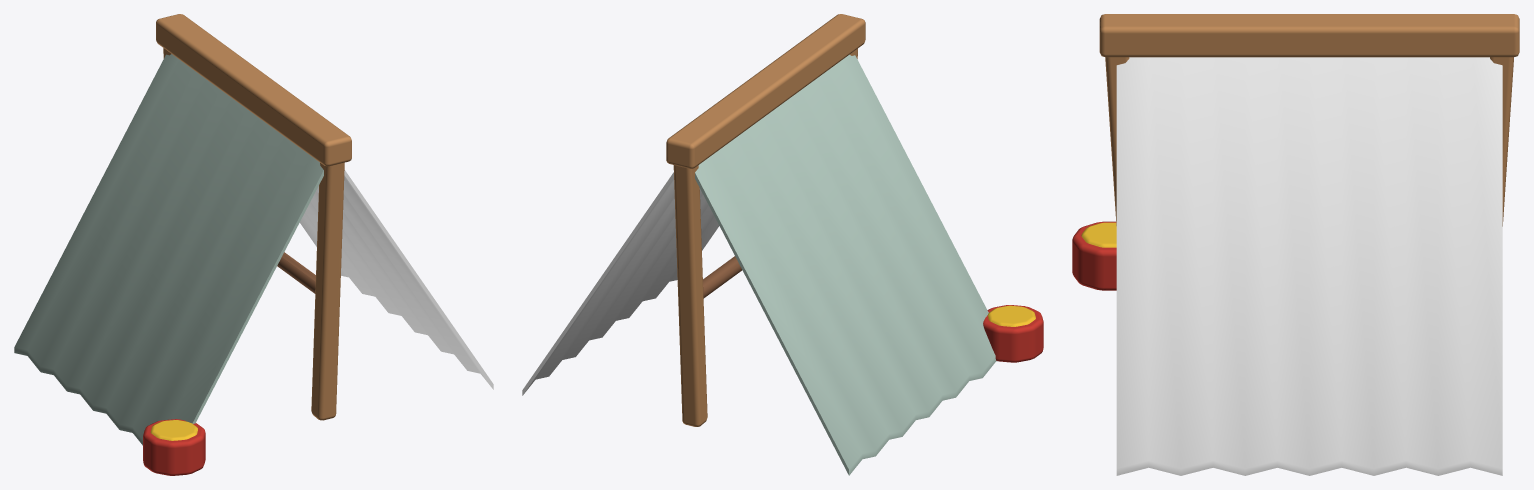
Rendered from prop_manok_cage.glb.
3 views of the same model, side by side, from view 1: azimuth 30°, elevation 25°; view 2: azimuth 150°, elevation 25°; view 3: azimuth 270°, elevation 25° (orthographic). The views are drawn at different scales.
Parts seen in each view (by area): view 1: prop_manok_cage; view 2: prop_manok_cage; view 3: prop_manok_cage.
Boxes of the visible parts, x1,y1,x2,y2 form: prop_manok_cage: [14, 14, 493, 475]; prop_manok_cage: [522, 14, 1043, 475]; prop_manok_cage: [1072, 14, 1519, 475].
Bounding box in the file's own units: 0.8666 × 0.699 × 0.7882.
